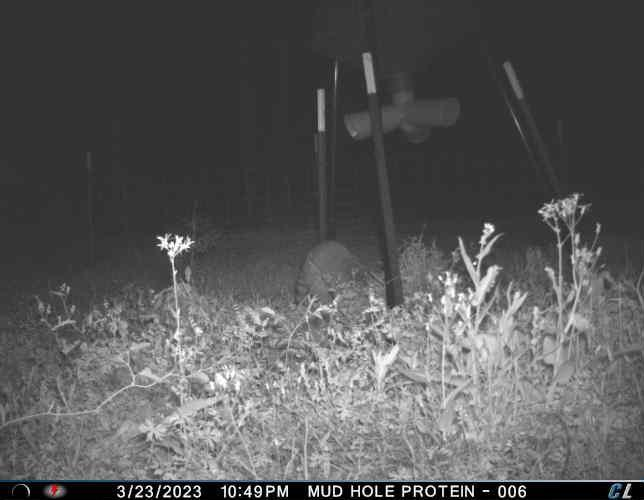Raccoon: (291, 243, 363, 312)
